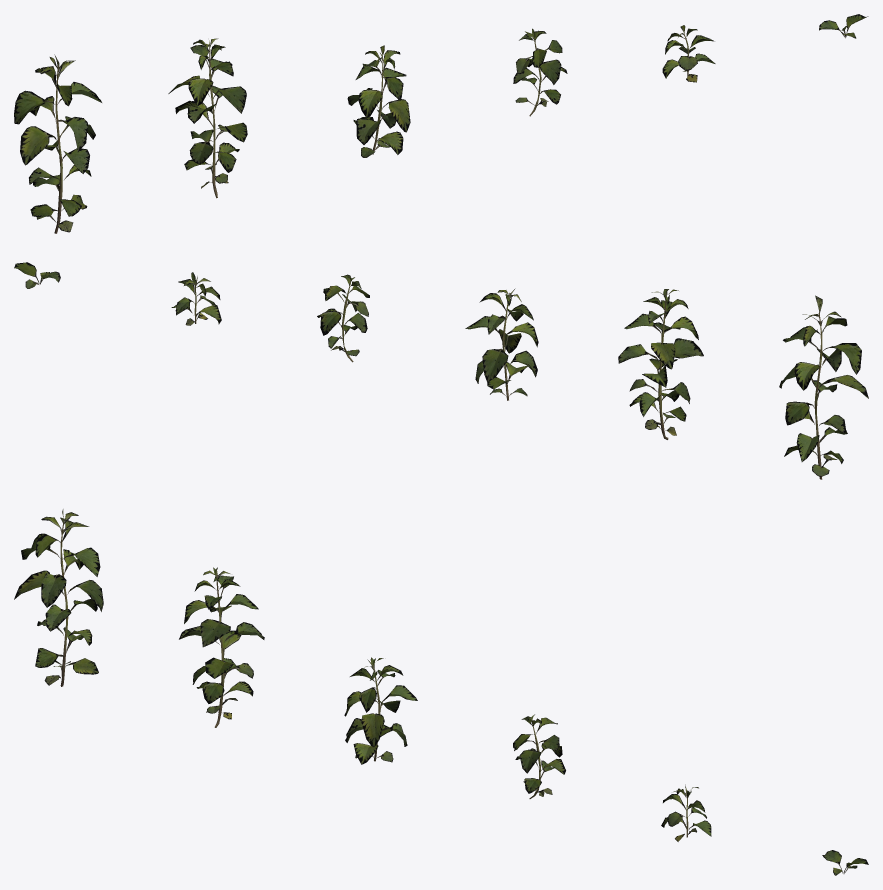
Rendered from nettle_plant.glb.
3 renders of one model, top to bottom at view 1: azimuth 30°, elevation 25°; view 2: azimuth 150°, elevation 25°; view 3: azimuth 330°, elevation 25°, orthographic.
Visible parts, largest first — view 1: nettle_plant_medium_a_LOD0; view 2: nettle_plant_medium_a_LOD0; view 3: nettle_plant_medium_a_LOD0.
Part boxes in pixels (x1=…): nettle_plant_medium_a_LOD0: x1=14, y1=14, x2=868, y2=233; nettle_plant_medium_a_LOD0: x1=14, y1=262, x2=868, y2=479; nettle_plant_medium_a_LOD0: x1=14, y1=509, x2=868, y2=875.
Bounding box in the file's own units: 1.08 × 0.2182 × 0.0947.
1 material, 1 textured.
